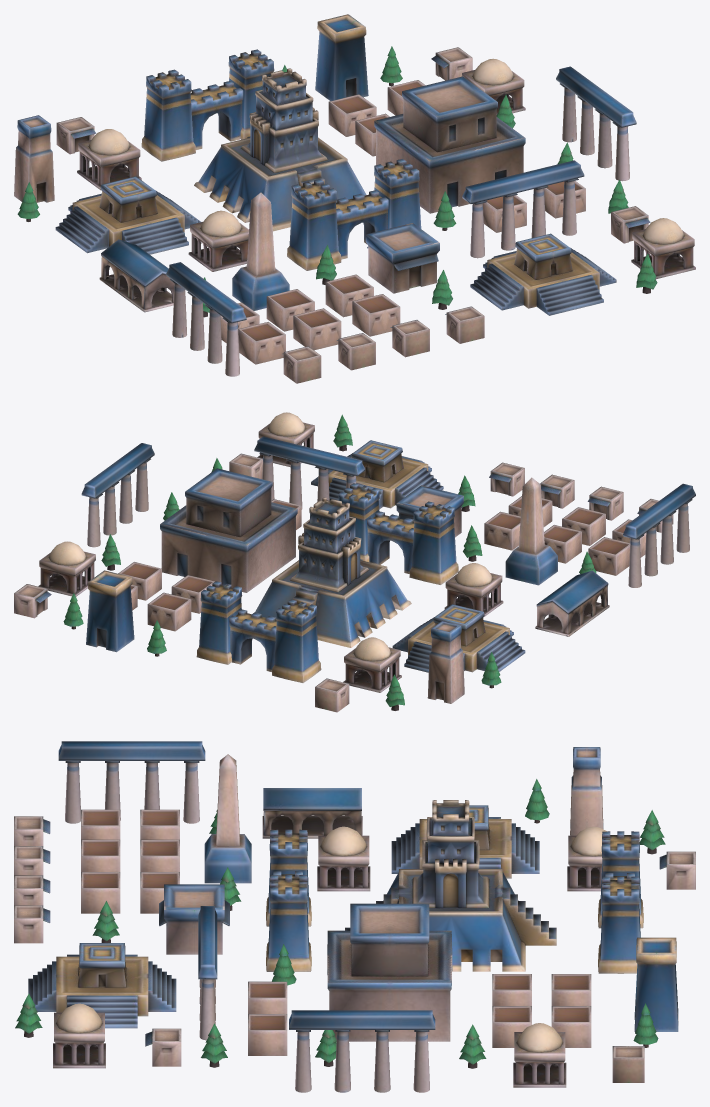
Rendered from city_babylonian_4.glb.
The picture shows the model from 3 angles, top to bottom: view 1: azimuth 30°, elevation 25°; view 2: azimuth 150°, elevation 25°; view 3: azimuth 270°, elevation 25°; orthographic projection. The views are drawn at different scales.
Parts seen in each view (by area): view 1: 2_low.003, 3_low.002, 1_low.007, 1_low.002, 1_low.004, 1_low.003, 1_low.005, 1_low, 1_low.008, 3_low.006, 3_low.009, 3_low.001 (+25 smaller); view 2: 3_low.002, 2_low.003, 1_low.003, 1_low.004, 1_low.002, 1_low.007, 1_low, 1_low.008, 3_low.009, 1_low.005, 3_low.001, 3_low.003 (+22 smaller); view 3: 2_low.003, 3_low.002, 1_low.007, 1_low, 1_low.008, 1_low.003, 1_low.004, 1_low.002, 3_low.001, 3_low.003, 3_low.009, 3_low.006 (+34 smaller).
Part boxes in pixels (x1=…): 2_low.003: x1=194, y1=68, x2=366, y2=231; 3_low.002: x1=374, y1=76, x2=525, y2=213; 1_low.007: x1=470, y1=233, x2=616, y2=315; 1_low.002: x1=55, y1=176, x2=200, y2=254; 1_low.004: x1=287, y1=159, x2=421, y2=270; 1_low.003: x1=141, y1=49, x2=274, y2=161; 1_low.005: x1=462, y1=160, x2=584, y2=258; 1_low: x1=556, y1=66, x2=636, y2=181; 1_low.008: x1=166, y1=262, x2=246, y2=376; 3_low.006: x1=365, y1=223, x2=439, y2=293; 3_low.009: x1=315, y1=14, x2=368, y2=100; 3_low.001: x1=99, y1=239, x2=174, y2=312; 3_low.002: x1=160, y1=468, x2=297, y2=592; 2_low.003: x1=255, y1=497, x2=411, y2=647; 1_low.003: x1=196, y1=581, x2=321, y2=682; 1_low.004: x1=338, y1=483, x2=458, y2=584; 1_low.002: x1=392, y1=604, x2=525, y2=672; 1_low.007: x1=311, y1=440, x2=443, y2=509; 1_low: x1=81, y1=443, x2=154, y2=547; 1_low.008: x1=623, y1=483, x2=695, y2=587; 3_low.009: x1=86, y1=570, x2=134, y2=652; 1_low.005: x1=254, y1=436, x2=365, y2=509; 3_low.001: x1=535, y1=570, x2=609, y2=636; 3_low.003: x1=505, y1=477, x2=557, y2=585; 2_low.003: x1=345, y1=800, x2=556, y2=971; 3_low.002: x1=327, y1=903, x2=452, y2=1041; 1_low.007: x1=28, y1=943, x2=176, y2=1028; 1_low: x1=289, y1=1010, x2=435, y2=1092; 1_low.008: x1=58, y1=741, x2=205, y2=823; 1_low.003: x1=598, y1=831, x2=643, y2=973; 1_low.004: x1=266, y1=829, x2=311, y2=971; 1_low.002: x1=391, y1=805, x2=539, y2=878; 3_low.001: x1=262, y1=788, x2=362, y2=838; 3_low.003: x1=204, y1=754, x2=251, y2=883; 3_low.009: x1=634, y1=937, x2=678, y2=1031; 3_low.006: x1=159, y1=884, x2=229, y2=954.
Bounding box in the file's own units: 41.91 × 9.4 × 43.58.
Materials: 3 (3 with a texture image).
